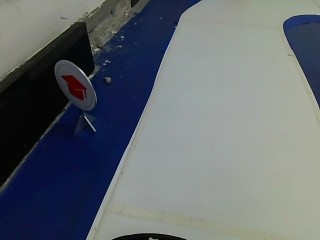school: (53, 58, 97, 108)
